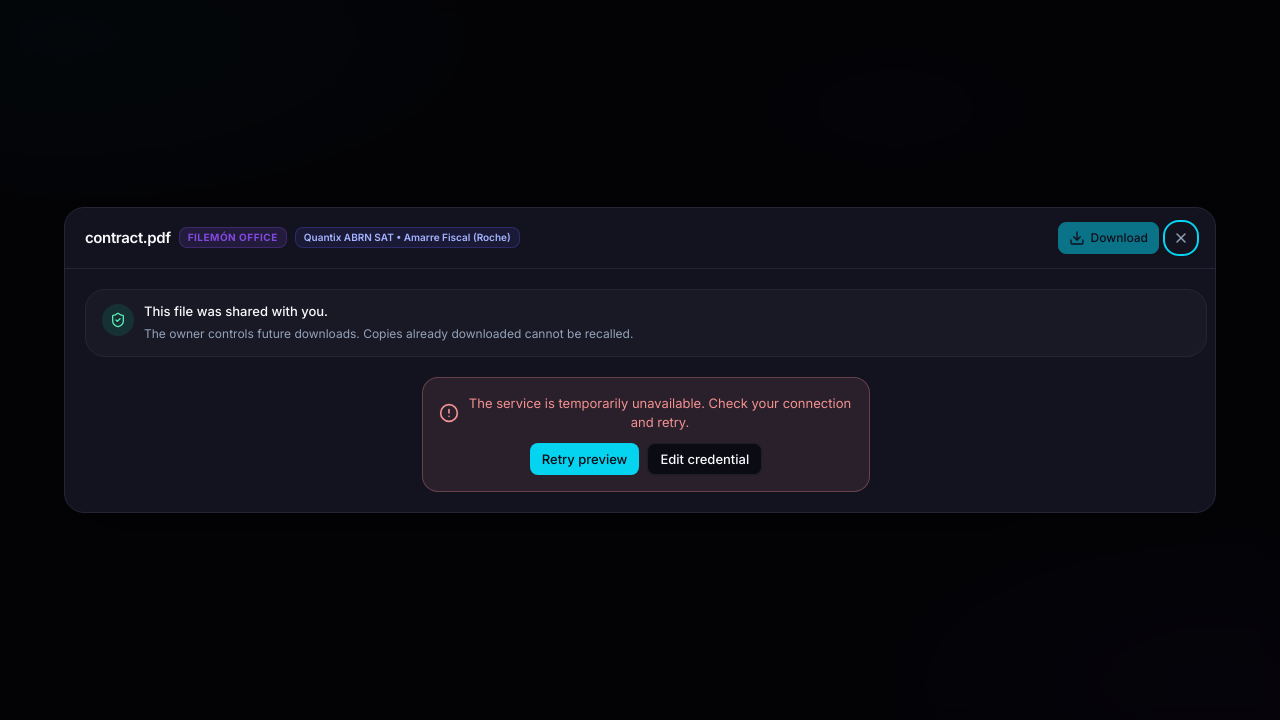
FilePreviewModal cached credential recovery › offers a retry for a transport failure without clearing the cached PIN
The width and height of the screenshot is (1280, 720).
Expected: the text "The service is temporarily unavailable" is shown, [469,395,851,430]
Expected: the button "Retry preview" is shown, [530,443,639,475]
Click the button "Edit credential" at (705, 459), box [647,443,762,475]
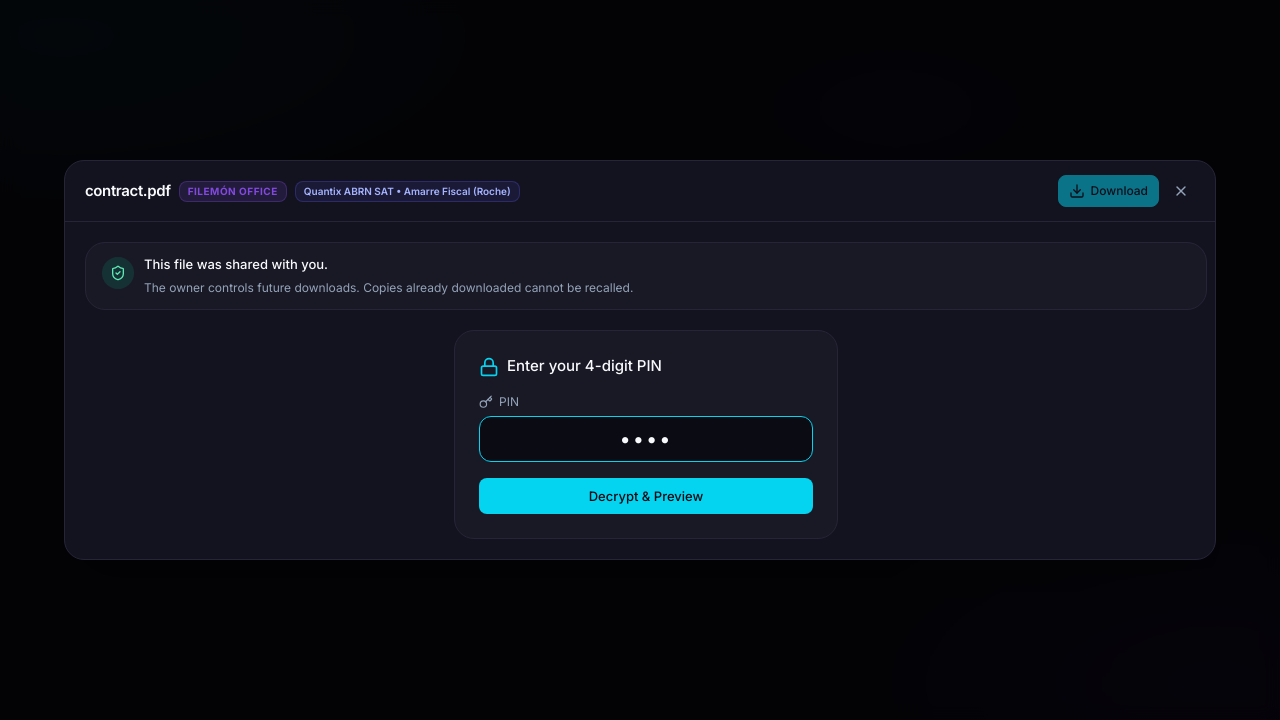
Expected: the password field labelled "PIN" holds "1234", [479,416,813,462]
